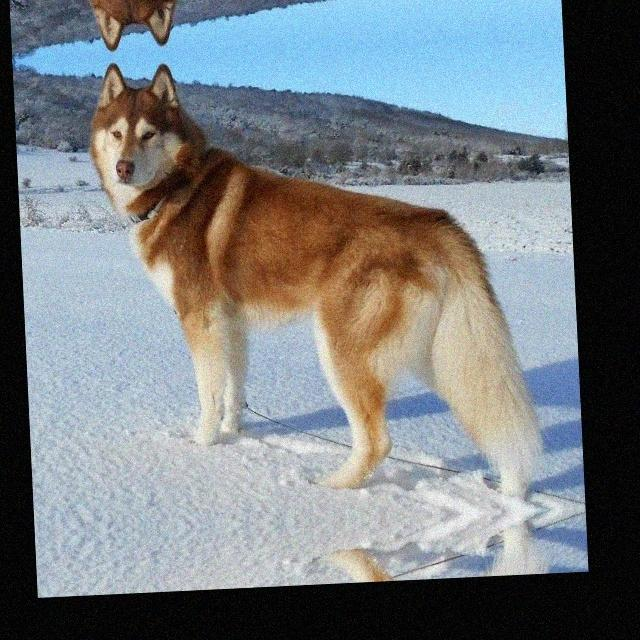dog: (87, 46, 550, 500), (110, 538, 554, 594), (82, 0, 528, 48)
